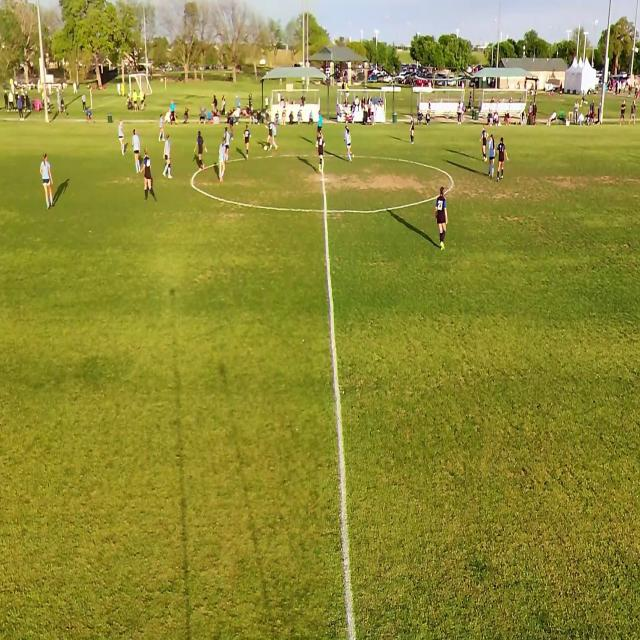ball: (263, 144, 268, 152)
team1: (435, 188, 450, 253), (142, 150, 156, 203), (195, 132, 207, 174), (498, 136, 508, 180), (316, 128, 325, 174), (242, 124, 251, 160), (481, 125, 487, 159), (410, 114, 416, 146), (229, 111, 235, 142), (268, 116, 272, 154)
team2: (41, 156, 56, 211), (162, 135, 173, 182), (132, 129, 143, 172), (218, 137, 226, 188), (487, 135, 496, 178), (119, 116, 128, 155), (344, 126, 353, 162), (271, 120, 279, 153), (159, 114, 166, 147), (225, 128, 230, 166)
